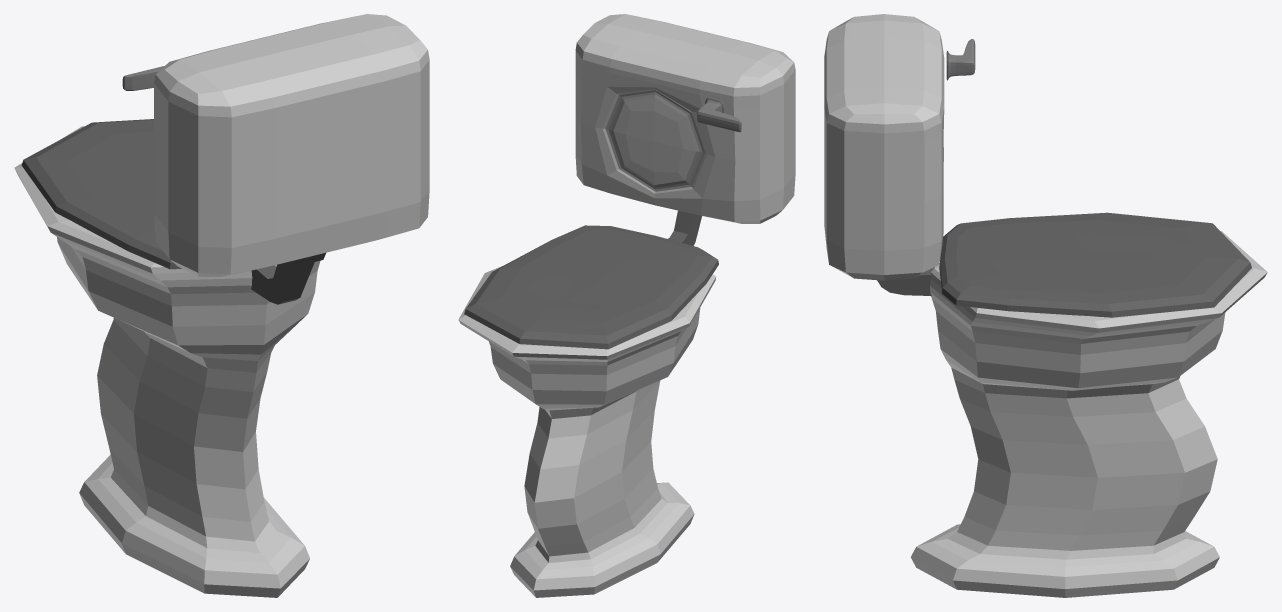
Rendered from TolietModel.fbx.
3 renders of one model, left to right at view 1: azimuth 30°, elevation 25°; view 2: azimuth 150°, elevation 25°; view 3: azimuth 270°, elevation 25°, orthographic. The views are drawn at different scales.
Visible parts, largest first — view 1: TolietModel; view 2: TolietModel; view 3: TolietModel.
Boxes of the visible parts, x1,y1,x2,y2 form: TolietModel: [14, 14, 429, 597]; TolietModel: [458, 14, 795, 597]; TolietModel: [824, 14, 1267, 597].
Bounding box in the file's own units: 65.33 × 138 × 109.
